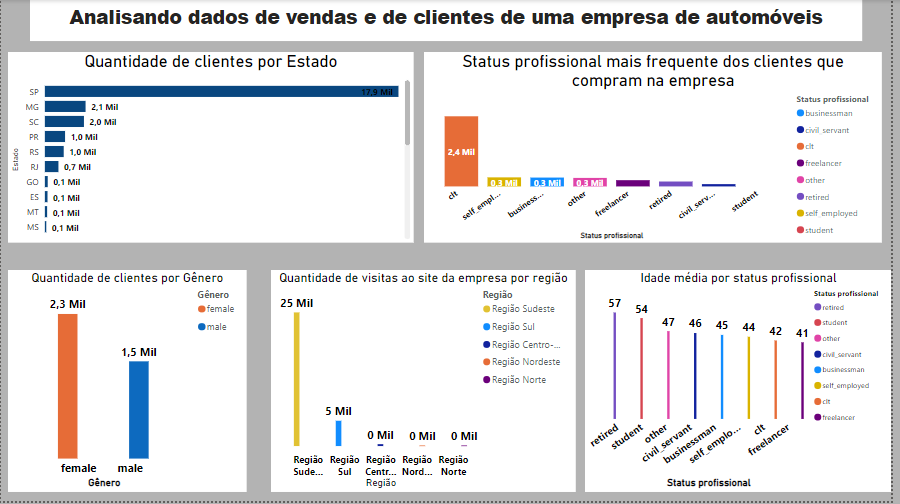

The page's visual inventory and layout, read from the dashboard file:
{"tool":"powerbi","page":{"name":"Página 1","canvas":[1280,720],"ordinal":0},"visuals":[{"type":"barChart","title":"Quantidade de clientes por Estado","fields":{"Category":["Quantidade de clientes por Estado (Tabelas) (2).Estado"],"Y":["Sum(Quantidade de clientes por Estado (Tabelas) (2).contagem)"]},"box":[10.1,74.7,583.5,274.5],"z":0},{"type":"columnChart","title":"Status profissional mais frequente dos clientes que compram na empresa","fields":{"Y":["Sum(Status profissional que mais aparece (Tabelas).Pagamentos)"],"Category":["Status profissional que mais aparece (Tabelas).Status profissional"],"Series":["Idade média dos clientes por status profissional (Tabelas) (2).Status profissional"]},"box":[607.9,74.7,658.2,274.5],"z":1000},{"type":"clusteredColumnChart","title":"Quantidade de clientes por Gênero","fields":{"Y":["Sum(Quantidade de clientes por gênero (Tabelas).Contagem)"],"Category":["Quantidade de clientes por gênero (Tabelas).Gênero"],"Series":["Quantidade de clientes por gênero (Tabelas).Gênero"]},"box":[10.1,388,343.5,319],"z":2000},{"type":"clusteredColumnChart","title":"Quantidade de visitas ao site da empresa por região","fields":{"Category":["Quantidade de visitas ao site por regiões (Tabelas).Região"],"Y":["Sum(Quantidade de visitas ao site por regiões (Tabelas).Visitas)"],"Series":["Quantidade de visitas ao site por regiões (Tabelas).Região"]},"box":[388,388,438.3,319],"z":3000},{"type":"clusteredColumnChart","title":"Idade média por status profissional","fields":{"Y":["Sum(Idade média dos clientes por status profissional (Tabelas) (2).Idade_media)"],"Category":["Idade média dos clientes por status profissional (Tabelas) (2).Status profissional"],"Series":["Idade média dos clientes por status profissional (Tabelas) (2).Status profissional"]},"box":[839.3,388,441.2,319],"z":4000},{"type":"textbox","box":[41.7,0,1195.7,58.9],"z":5000}]}

Visuals, with their boxes in screenshot pixels (x1, y1, x2, y2), scaled from the page's 1280x720 canvas onto the 900x504 screenshot:
"Quantidade de clientes por Estado" barChart: left=7, top=52, right=417, bottom=244
"Status profissional mais frequente dos clientes que compram na empresa" columnChart: left=427, top=52, right=890, bottom=244
"Quantidade de clientes por Gênero" clusteredColumnChart: left=7, top=272, right=249, bottom=495
"Quantidade de visitas ao site da empresa por região" clusteredColumnChart: left=273, top=272, right=581, bottom=495
"Idade média por status profissional" clusteredColumnChart: left=590, top=272, right=899, bottom=495
textbox: left=29, top=0, right=870, bottom=41
